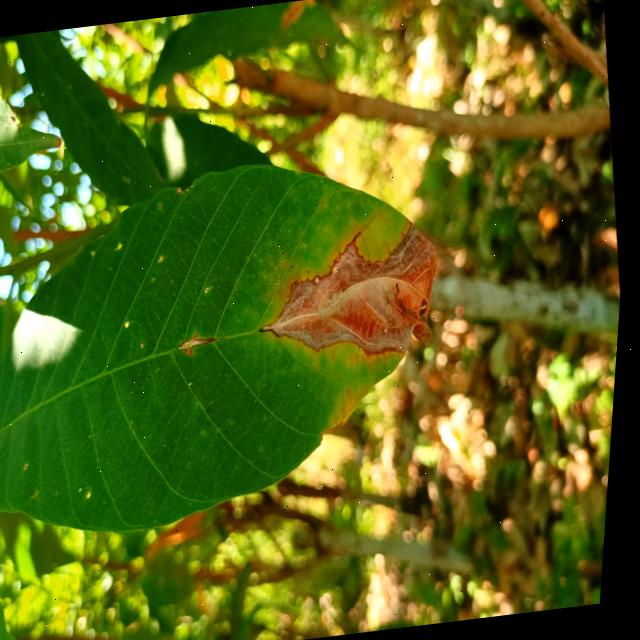Colletotrichum: (91, 491, 99, 498), (143, 342, 149, 348), (128, 322, 133, 328), (207, 288, 212, 292)
Leaf-Blight: (251, 220, 453, 370)
